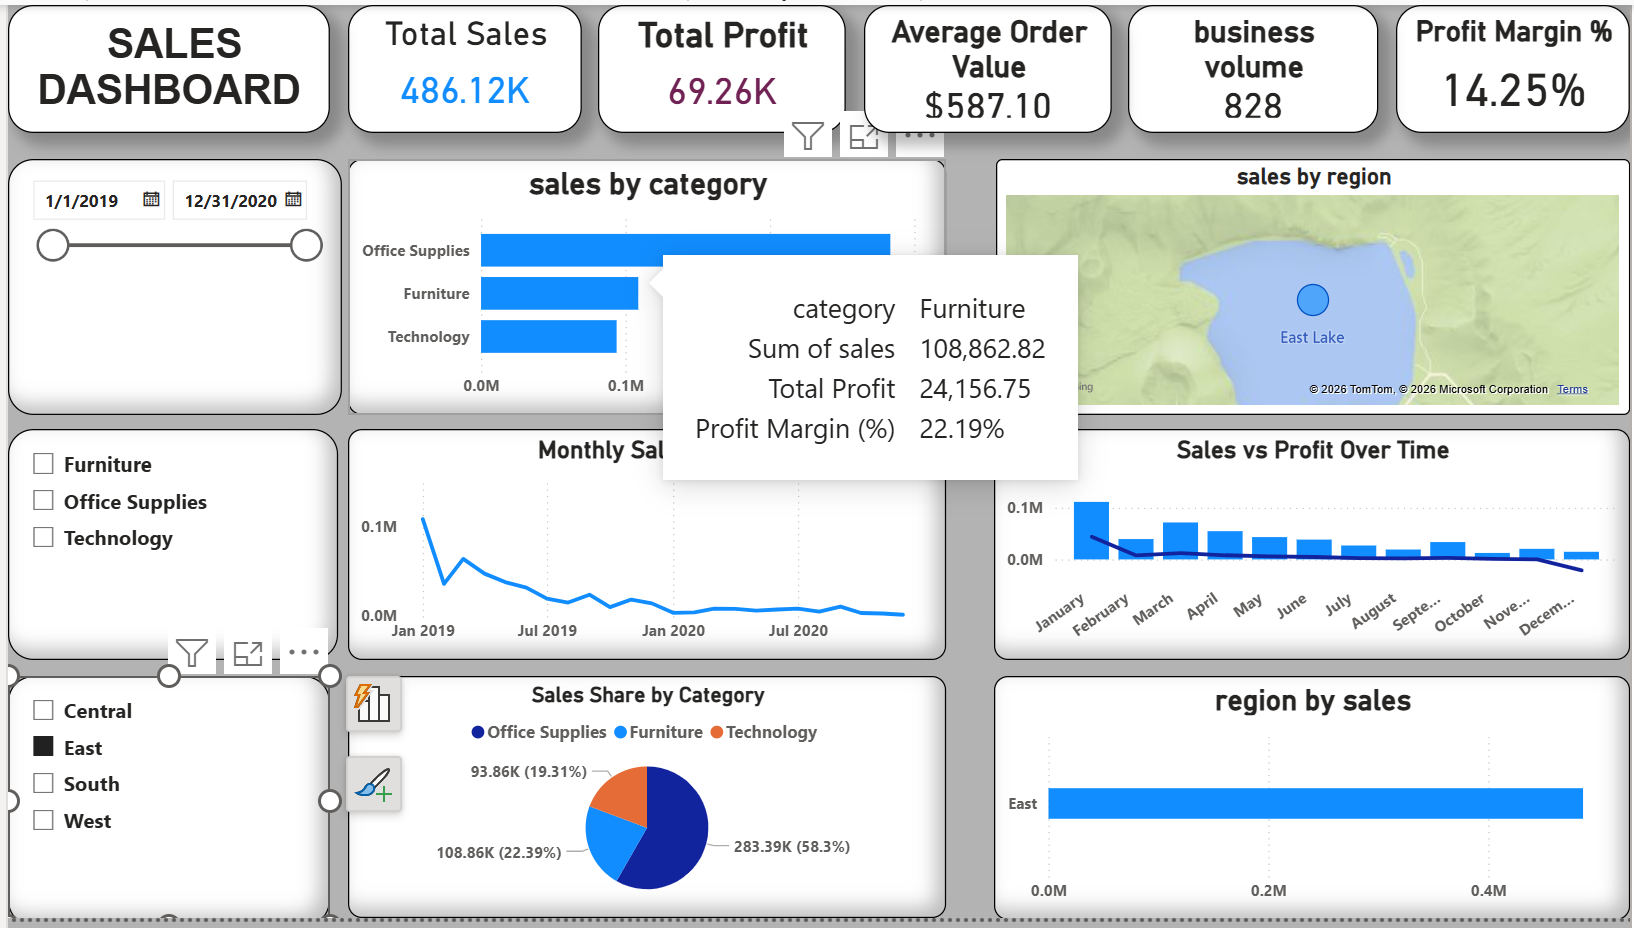

Layout of this report page (visuals, bound fields, positions):
{"tool":"powerbi","page":{"name":"Page 1","canvas":[1280,720],"ordinal":0},"visuals":[{"type":"card","title":"Total Sales","fields":{"Values":["superstore_sales_powerbi.Total Sales"]},"box":[268.3,0,184.7,101],"z":0},{"type":"card","title":"Total Profit","fields":{"Values":["superstore_sales_powerbi.Total Profit"]},"box":[465.6,0,195.7,101],"z":1000},{"type":"clusteredBarChart","title":"sales by category","fields":{"Category":["superstore_sales_powerbi.category"],"Y":["Sum(superstore_sales_powerbi.sales)"]},"box":[268.3,121.5,471.9,202],"z":2000},{"type":"barChart","title":"region by sales","fields":{"Category":["superstore_sales_powerbi.region"],"Y":["Sum(superstore_sales_powerbi.sales)"]},"box":[778.1,528.7,501.9,192.6],"z":3000},{"type":"lineChart","title":"Monthly Sales Trend","fields":{"Category":["superstore_sales_powerbi.order_date.Variation.Date Hierarchy.Year","superstore_sales_powerbi.order_date.Variation.Date Hierarchy.Month"],"Y":["Sum(superstore_sales_powerbi.sales)"]},"box":[268.3,334.6,471.9,181.5],"z":4000},{"type":"map","title":" sales by region","fields":{"Category":["superstore_sales_powerbi.region"],"Size":["Sum(superstore_sales_powerbi.sales)"]},"box":[779.7,121.5,500.3,202],"z":5000},{"type":"card","title":"Profit Margin %","fields":{"Values":["superstore_sales_powerbi.Profit Margin (%)"]},"box":[1095.3,0,184.7,101],"z":6000},{"type":"card","title":"business volume","fields":{"Values":["superstore_sales_powerbi.Total Orders"]},"box":[883.8,0,197.3,101],"z":7000},{"type":"card","title":"Average Order Value","fields":{"Values":["superstore_sales_powerbi.Average Order Value"]},"box":[675.5,0,195.7,101],"z":8000},{"type":"slicer","fields":{"Values":["superstore_sales_powerbi.region"]},"box":[0,528.7,254.1,197.3],"z":9000},{"type":"slicer","fields":{"Values":["superstore_sales_powerbi.category"]},"box":[0,334.6,260.4,181.5],"z":10000},{"type":"slicer","fields":{"Values":["superstore_sales_powerbi.order_date"]},"box":[0,121.5,263.6,202],"z":11000},{"type":"lineStackedColumnComboChart","title":"Sales vs Profit Over Time","fields":{"Y":["Sum(superstore_sales_powerbi.sales)"],"Y2":["superstore_sales_powerbi.Total Profit"],"Category":["superstore_sales_powerbi.order_date.Variation.Date Hierarchy.Month"]},"box":[778.1,334.6,501.9,181.5],"z":12000},{"type":"textbox","box":[0,0,254.1,101],"z":13000},{"type":"pieChart","title":"Sales Share by Category","fields":{"Category":["superstore_sales_powerbi.category"],"Y":["superstore_sales_powerbi.Total Sales"]},"box":[268.3,528.7,471.9,191],"z":14000}]}

Visuals, with their boxes in screenshot pixels (x1, y1, x2, y2), scaled from the page's 1280x720 canvas onto the 1634x928 screenshot:
"Total Sales" card: x1=343 y1=0 x2=578 y2=130
"Total Profit" card: x1=594 y1=0 x2=844 y2=130
"sales by category" clusteredBarChart: x1=343 y1=157 x2=945 y2=417
"region by sales" barChart: x1=993 y1=681 x2=1633 y2=927
"Monthly Sales Trend" lineChart: x1=343 y1=431 x2=945 y2=665
" sales by region" map: x1=995 y1=157 x2=1633 y2=417
"Profit Margin %" card: x1=1398 y1=0 x2=1633 y2=130
"business volume" card: x1=1128 y1=0 x2=1380 y2=130
"Average Order Value" card: x1=862 y1=0 x2=1112 y2=130
slicer - superstore_sales_powerbi.region: x1=0 y1=681 x2=324 y2=927
slicer - superstore_sales_powerbi.category: x1=0 y1=431 x2=332 y2=665
slicer - superstore_sales_powerbi.order_date: x1=0 y1=157 x2=337 y2=417
"Sales vs Profit Over Time" lineStackedColumnComboChart: x1=993 y1=431 x2=1633 y2=665
textbox: x1=0 y1=0 x2=324 y2=130
"Sales Share by Category" pieChart: x1=343 y1=681 x2=945 y2=927
